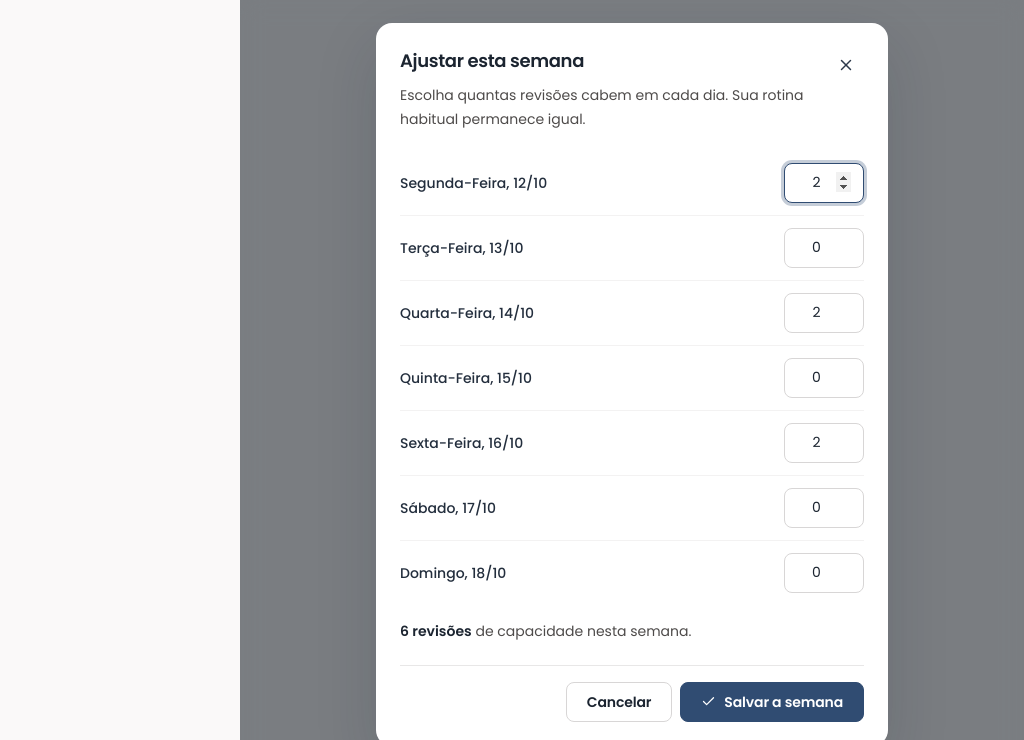
Scenario: WeeklyAvailabilityModal › keeps the dialog open when the database rejects the week
The image size is (1024, 740).
Step 1. Click the button "Salvar a semana" → click(772, 702), box [680,682,864,722]
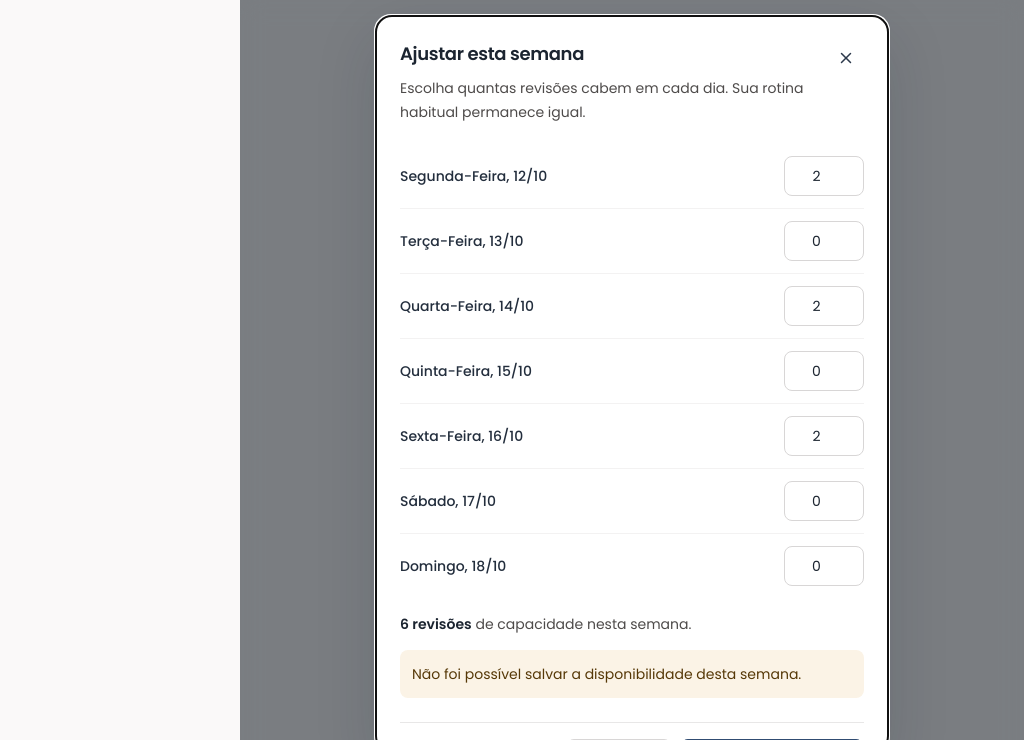
Check: the message reads "Não foi possível salvar a disponibilidade desta semana.", box [412,664,801,684]
